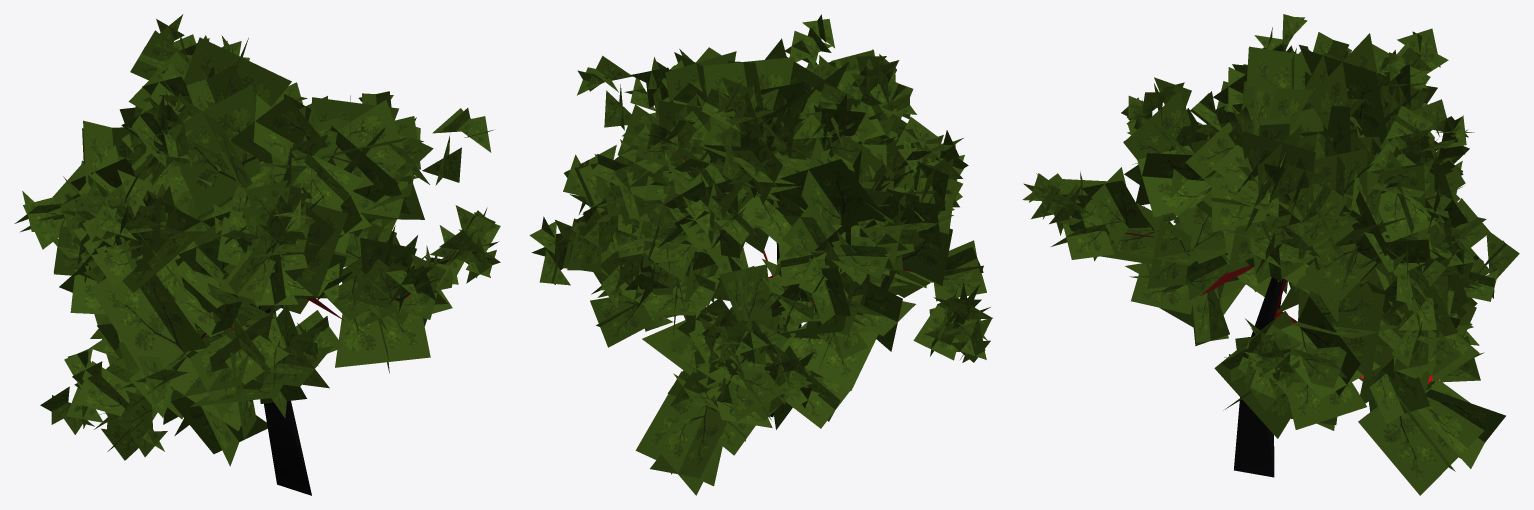
File: oak4 lod2.FBX
3 views of the same model, side by side, from view 1: azimuth 30°, elevation 25°; view 2: azimuth 150°, elevation 25°; view 3: azimuth 270°, elevation 25° (orthographic). The views are drawn at different scales.
Visible parts, largest first — view 1: oak 4_LOD2; view 2: oak 4_LOD2; view 3: oak 4_LOD2.
Part boxes in pixels (left/top/right/bottom): oak 4_LOD2: left=14, top=14, right=500, bottom=495; oak 4_LOD2: left=529, top=14, right=992, bottom=495; oak 4_LOD2: left=1022, top=14, right=1519, bottom=495.
Size of the model in its own units: 92959 by 85289 by 88737.
